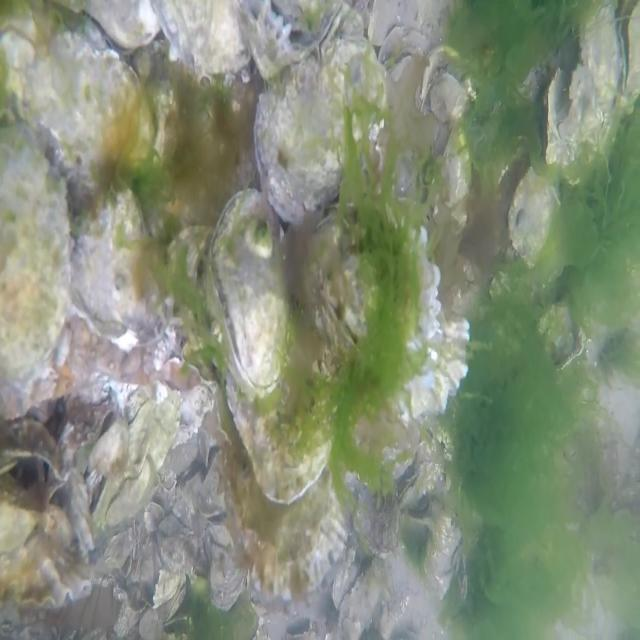Oyster-Closed: (0, 136, 67, 422), (20, 28, 146, 168), (208, 179, 290, 393), (76, 185, 176, 349), (256, 61, 350, 215), (509, 177, 558, 271)
Oyster-Indeterminate: (2, 446, 124, 618), (235, 499, 360, 603), (290, 190, 370, 352), (235, 395, 349, 500), (138, 0, 240, 60), (243, 0, 326, 53)
